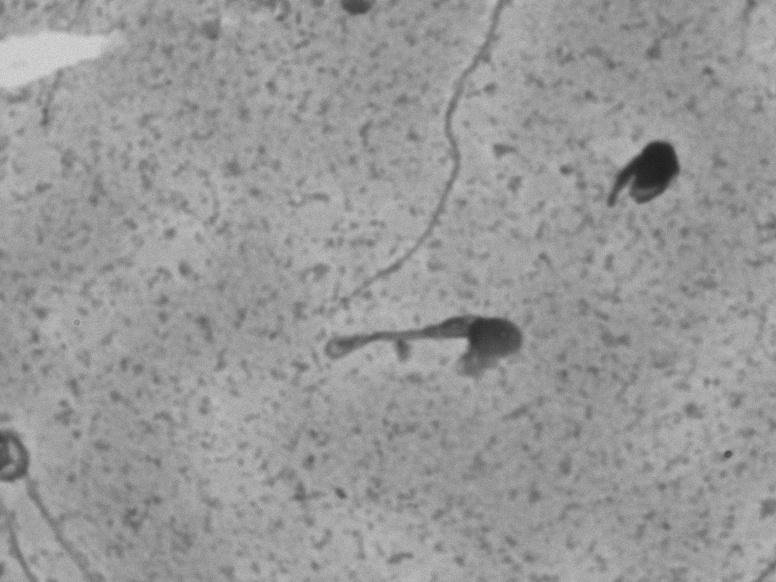Abnormal: (306, 288, 539, 420)
